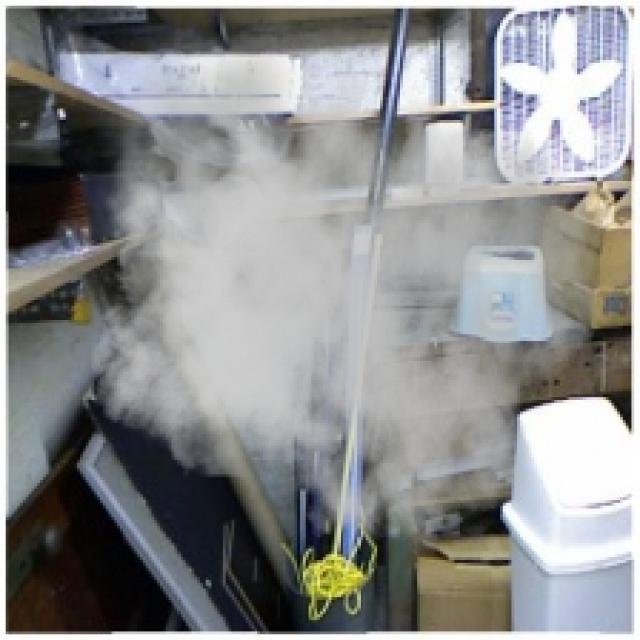Smoke: (74, 25, 600, 558)
